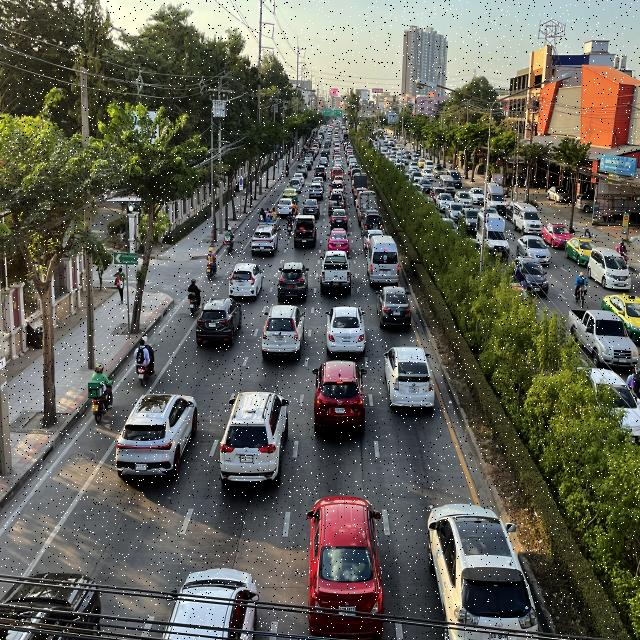bike: (88, 356, 114, 429), (134, 333, 155, 389), (186, 275, 202, 319), (204, 244, 219, 282), (223, 224, 236, 256), (285, 210, 294, 238)
truck: (256, 205, 281, 234)
